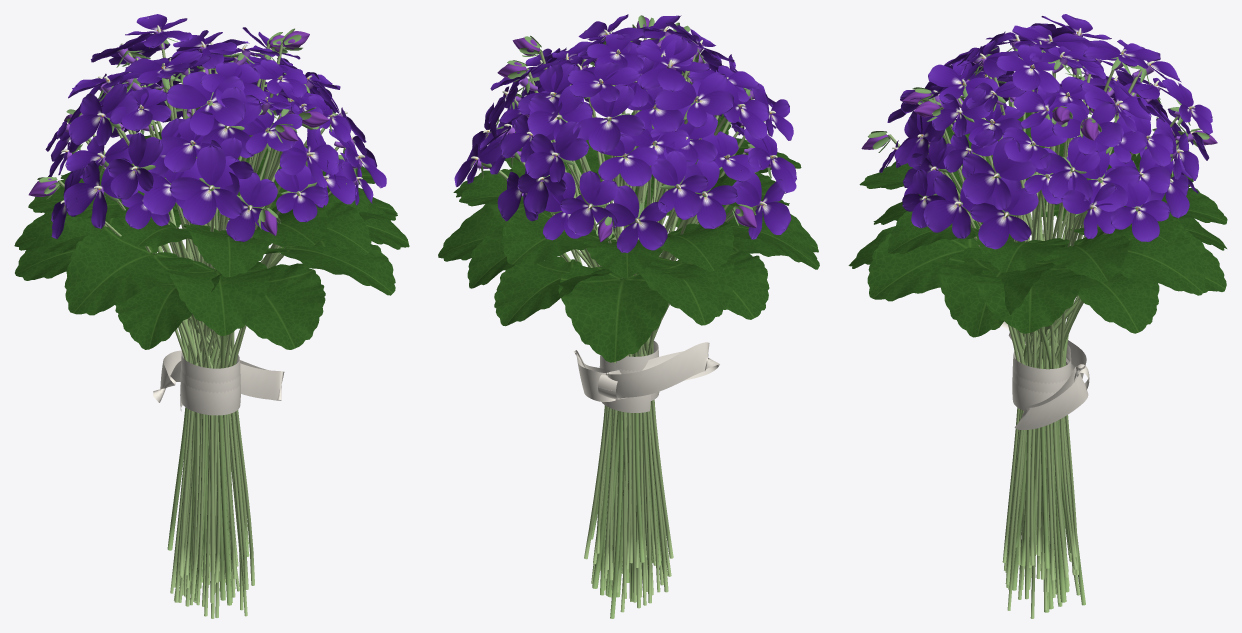
File: ramo.glb
The picture shows the model from 3 angles, left to right: view 1: azimuth 30°, elevation 25°; view 2: azimuth 150°, elevation 25°; view 3: azimuth 270°, elevation 25°; orthographic projection.
Parts seen in each view (by area): view 1: hoja, pedunculo, petalo_sup, petalo_lat, petalo_inf, cinta, peciolo, sepalo, capullo, espolon, centro; view 2: hoja, petalo_lat, petalo_sup, petalo_inf, pedunculo, cinta, peciolo, sepalo, capullo, espolon, centro; view 3: hoja, petalo_lat, petalo_sup, petalo_inf, pedunculo, peciolo, cinta, sepalo, capullo, espolon, centro.
Boxes of the visible parts, <box> form: hoja: <box>14,122,409,349</box>; pedunculo: <box>58,42,339,618</box>; petalo_sup: <box>63,30,358,206</box>; petalo_lat: <box>51,18,376,231</box>; petalo_inf: <box>45,14,386,241</box>; cinta: <box>153,350,284,415</box>; peciolo: <box>152,224,285,605</box>; sepalo: <box>37,28,356,229</box>; capullo: <box>28,31,329,235</box>; espolon: <box>65,30,362,208</box>; centro: <box>60,25,365,210</box>; hoja: <box>438,110,819,362</box>; petalo_lat: <box>466,14,796,252</box>; petalo_sup: <box>479,25,777,226</box>; petalo_inf: <box>454,15,796,250</box>; pedunculo: <box>498,38,750,612</box>; cinta: <box>573,341,719,412</box>; peciolo: <box>559,175,697,618</box>; sepalo: <box>479,15,771,239</box>; capullo: <box>497,17,756,242</box>; espolon: <box>473,31,773,221</box>; centro: <box>471,26,777,222</box>; hoja: <box>848,112,1227,337</box>; petalo_lat: <box>885,16,1212,241</box>; petalo_sup: <box>898,23,1193,215</box>; petalo_inf: <box>879,14,1212,249</box>; pedunculo: <box>888,58,1178,618</box>; peciolo: <box>1006,212,1085,612</box>; cinta: <box>1001,321,1089,429</box>; sepalo: <box>868,46,1209,218</box>; capullo: <box>861,91,1217,149</box>; espolon: <box>894,33,1193,214</box>; centro: <box>892,28,1195,216</box>.
Bounding box in the file's own units: 0.1421 × 0.2259 × 0.1383.
12 materials, 4 textured.
